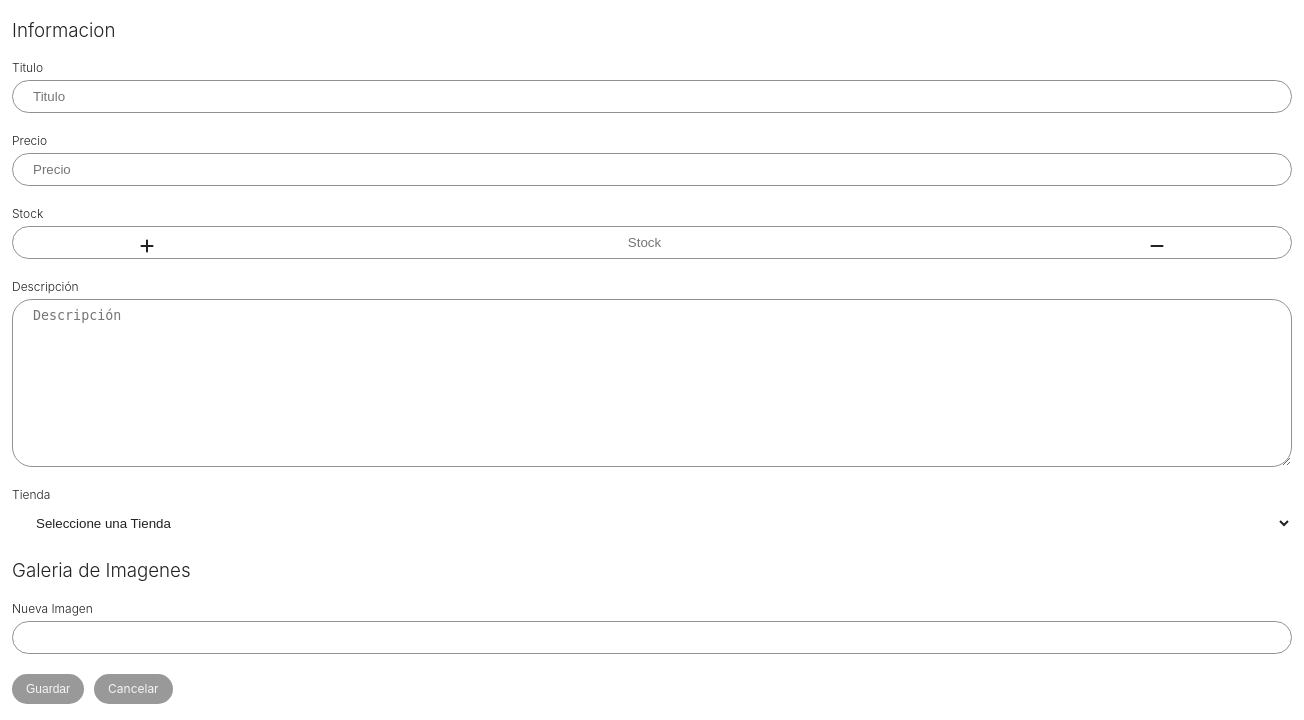
Test: Formulario de productos › Stock
This screenshot has width=1304, height=720.
asigno el evento al input
Click the number field labelled "Stock" at (652,243), box [12,226,1292,259]
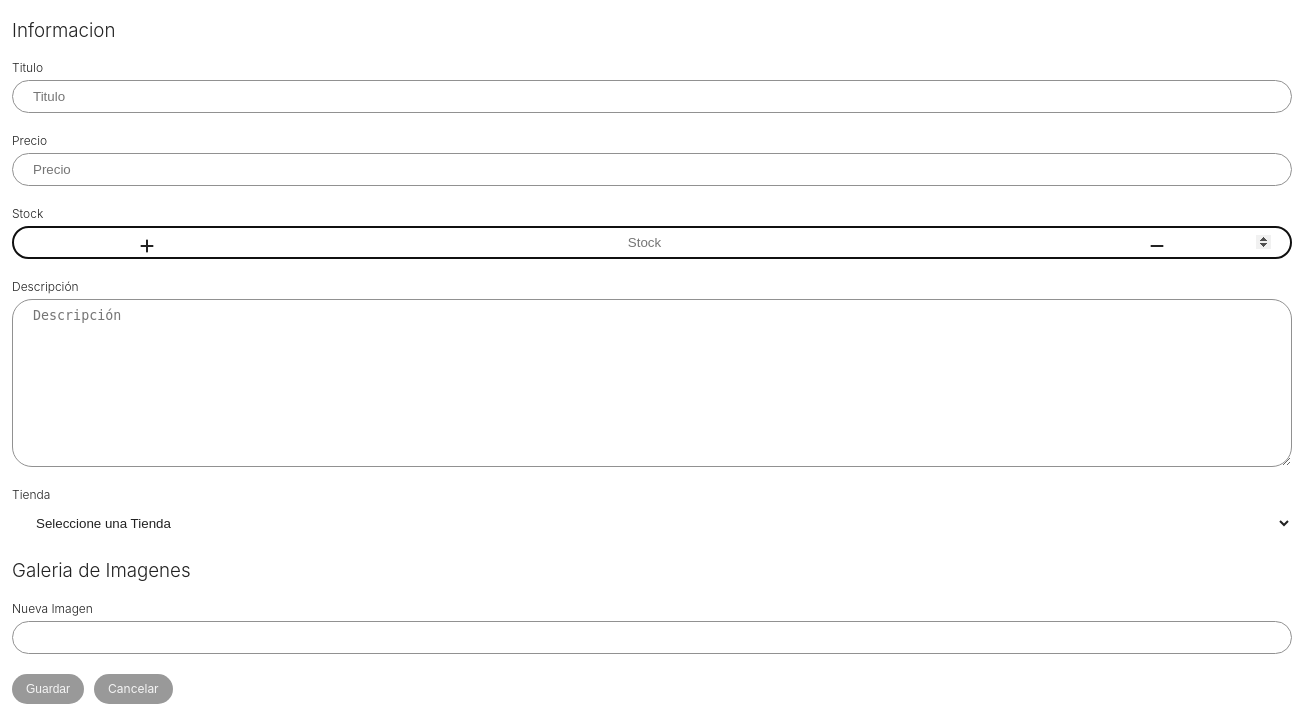
Agrego contenido al input
Type keys "12345"
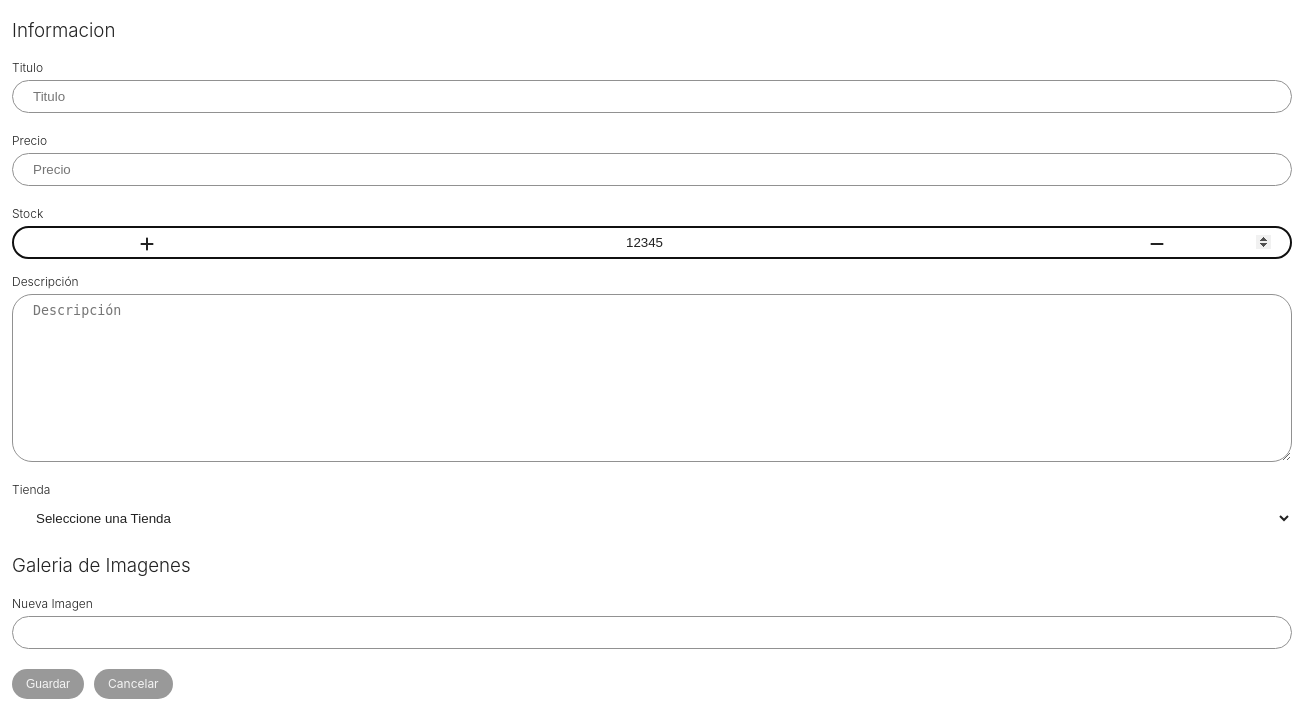
Expected: the number field showing "12345" is shown, [12,226,1292,259]
